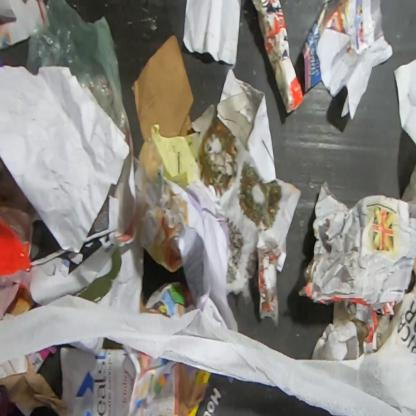cardboard: (130, 34, 195, 144), (0, 372, 68, 415)
rigid_plastic: (0, 215, 32, 277)
soft_plastic: (25, 0, 126, 138)
